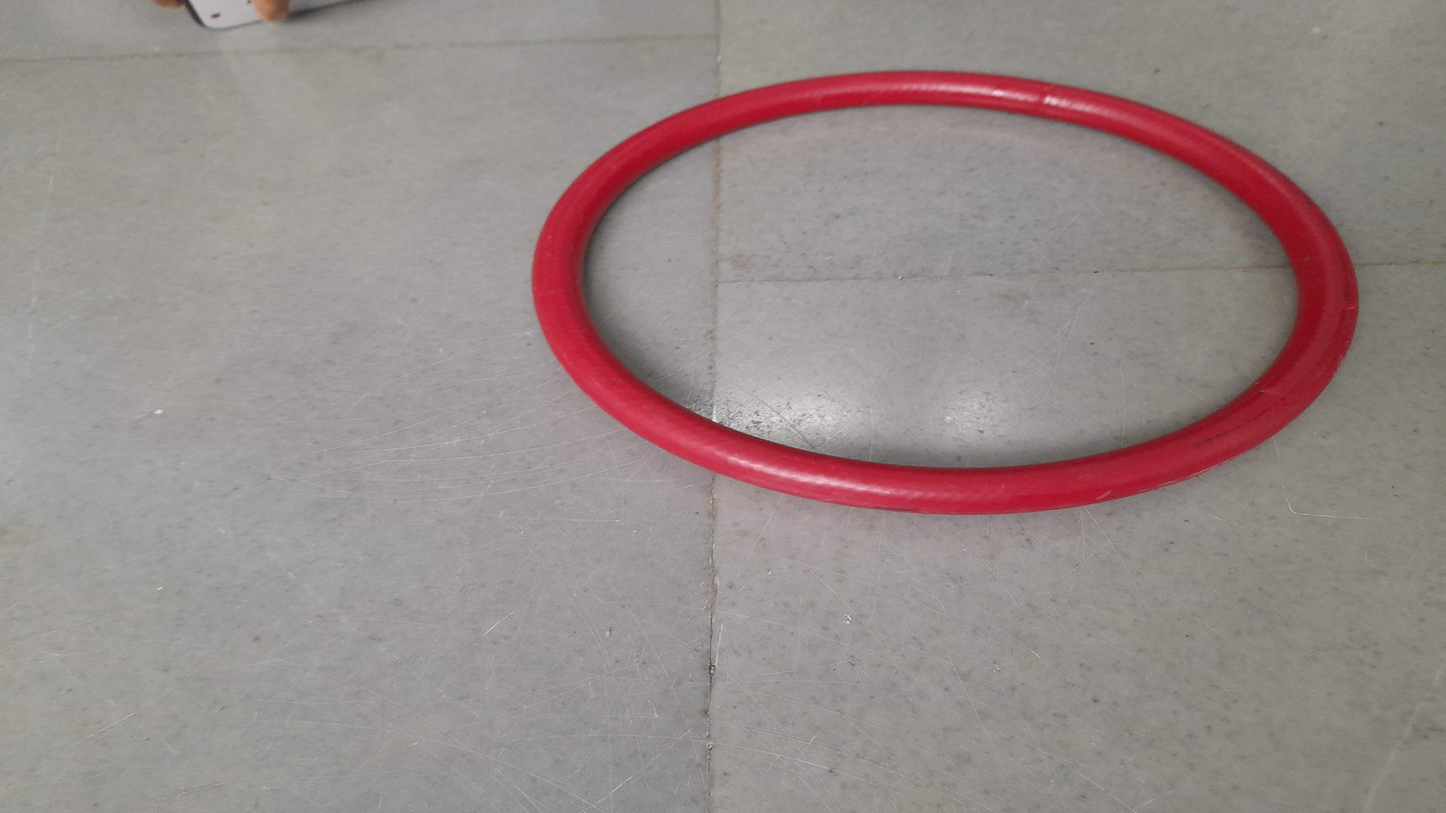Red ring: (530, 72, 1362, 519)
